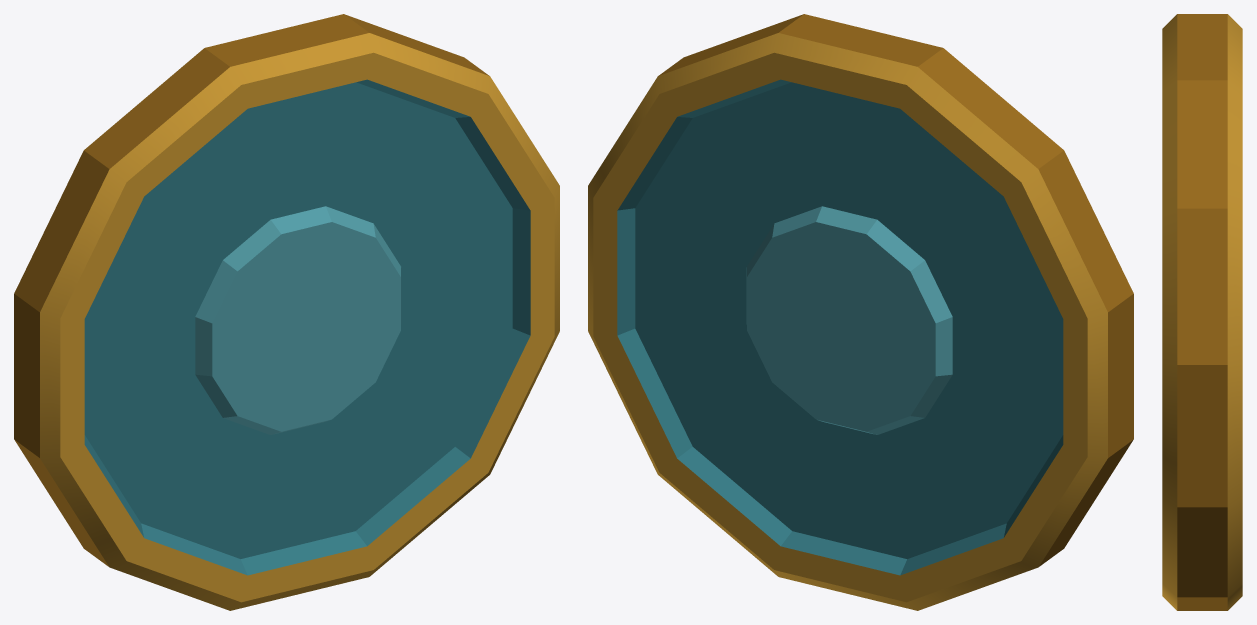
Rendered from Coin_30.glb.
The picture shows the model from 3 angles, left to right: view 1: azimuth 30°, elevation 25°; view 2: azimuth 150°, elevation 25°; view 3: azimuth 270°, elevation 25°; orthographic projection. The views are drawn at different scales.
Visible parts, largest first — view 1: Coin_30; view 2: Coin_30; view 3: Coin_30.
Boxes of the visible parts, left/top/right/bottom form: Coin_30: left=14, top=14, right=559, bottom=610; Coin_30: left=588, top=14, right=1133, bottom=610; Coin_30: left=1162, top=14, right=1242, bottom=610.
Bounding box in the file's own units: 1.77 × 1.77 × 0.242.
